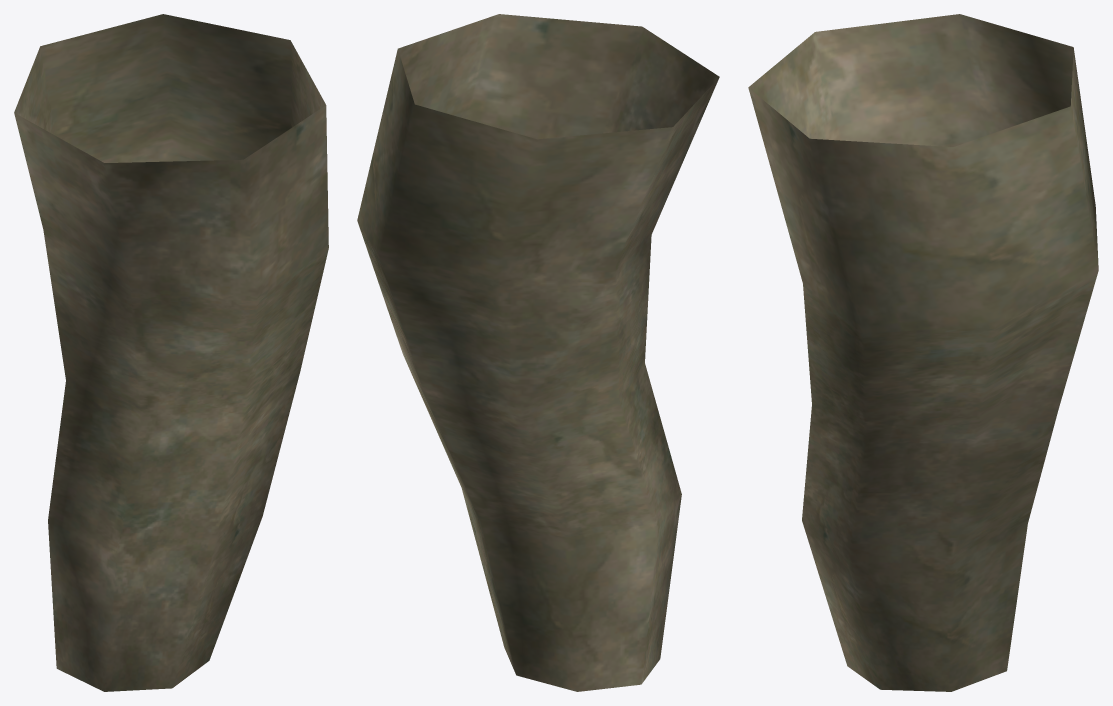
Rendered from EKH_GROTTO_PS_GR_OBJECT99.fbx.
3 views of the same model, side by side, from view 1: azimuth 30°, elevation 25°; view 2: azimuth 150°, elevation 25°; view 3: azimuth 270°, elevation 25° (orthographic). The views are drawn at different scales.
Visible parts, largest first — view 1: EKH_GROTTO_PS_GR_OBJECT99; view 2: EKH_GROTTO_PS_GR_OBJECT99; view 3: EKH_GROTTO_PS_GR_OBJECT99.
Part boxes in pixels (x1,y1,x2,y2): EKH_GROTTO_PS_GR_OBJECT99: (14,14,328,691); EKH_GROTTO_PS_GR_OBJECT99: (357,14,719,691); EKH_GROTTO_PS_GR_OBJECT99: (748,14,1098,691).
Size of the model in its own units: 26126 by 48903 by 25447.
1 material, 1 textured.
